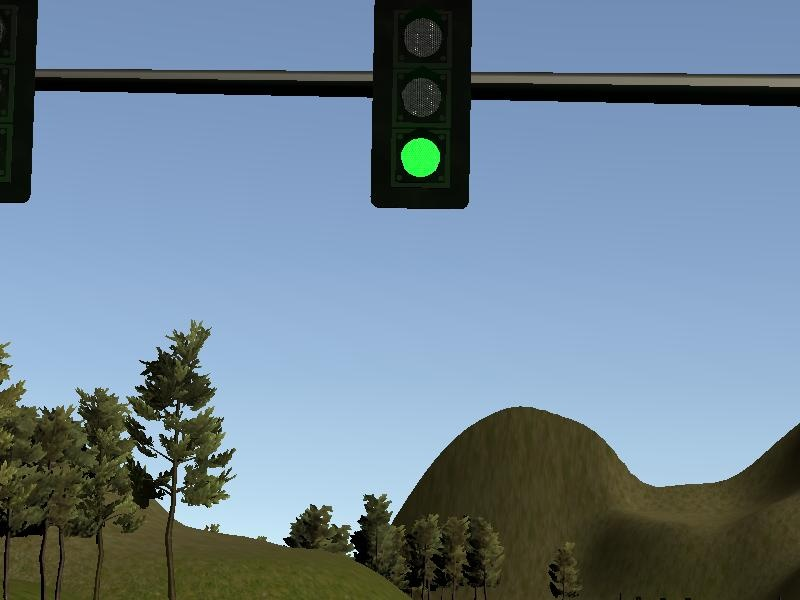GREEN: (371, 1, 472, 211)
